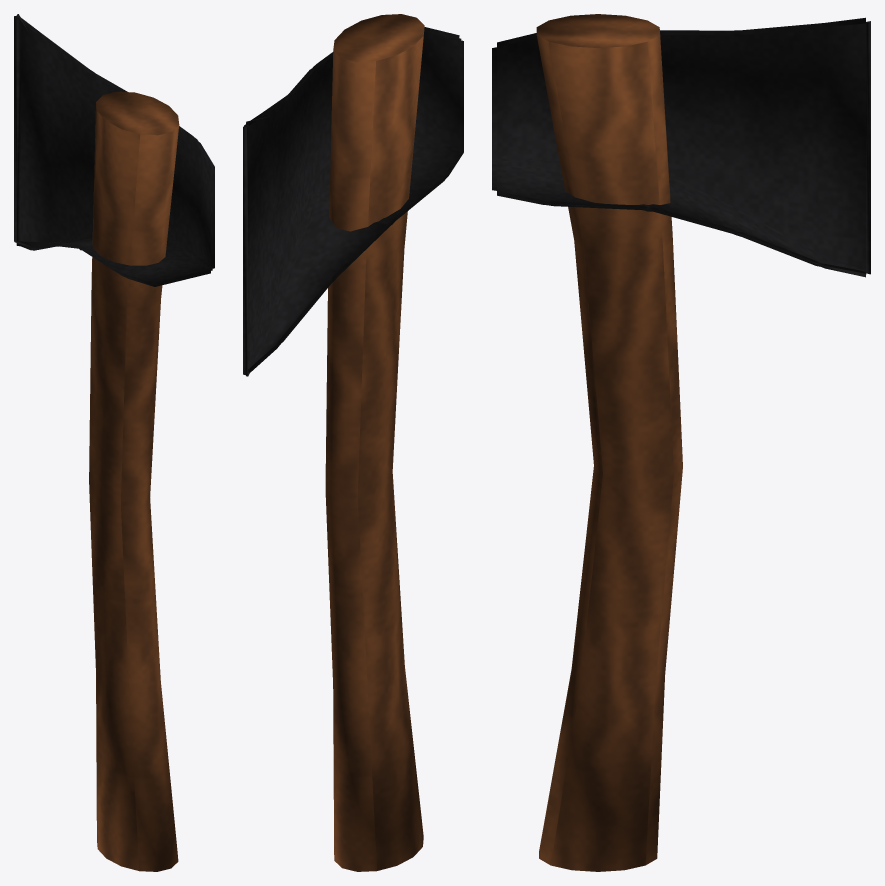
File: hatchet.glb
3 renders of one model, left to right at view 1: azimuth 30°, elevation 25°; view 2: azimuth 150°, elevation 25°; view 3: azimuth 270°, elevation 25°, orthographic. The views are drawn at different scales.
Visible parts, largest first — view 1: HatchetHandle, HatchetHead; view 2: HatchetHandle, HatchetHead; view 3: HatchetHandle, HatchetHead.
Boxes of the visible parts, x1=… form: HatchetHandle: x1=89, y1=91, x2=179, y2=871; HatchetHead: x1=14, y1=14, x2=214, y2=286; HatchetHandle: x1=325, y1=14, x2=424, y2=871; HatchetHead: x1=243, y1=27, x2=463, y2=376; HatchetHandle: x1=536, y1=14, x2=682, y2=871; HatchetHead: x1=492, y1=17, x2=870, y2=277.
Size of the model in its own units: 0.04 by 0.3656 by 0.15.
Materials: 2 (2 with a texture image).
